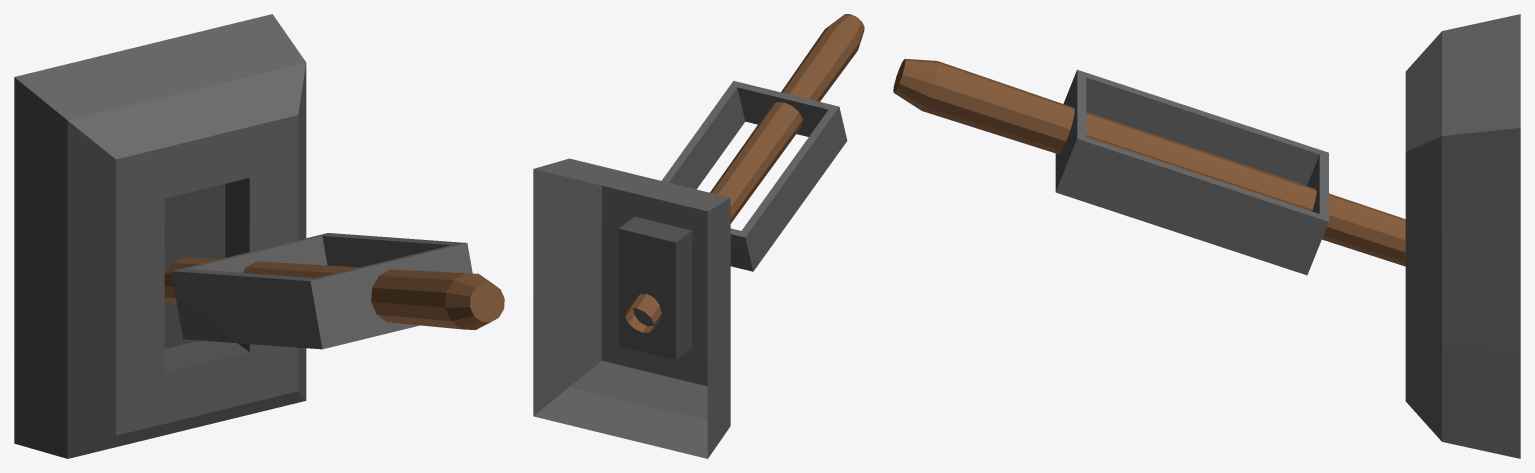
The model's file is Mini_Control_Button_4.fbx.
3 renders of one model, left to right at view 1: azimuth 30°, elevation 25°; view 2: azimuth 150°, elevation 25°; view 3: azimuth 270°, elevation 25°, orthographic. The views are drawn at different scales.
Visible parts, largest first — view 1: Mini_Control_Button_4, Mini_Control_Button_4.001; view 2: Mini_Control_Button_4, Mini_Control_Button_4.001; view 3: Mini_Control_Button_4, Mini_Control_Button_4.001.
Boxes of the visible parts, x1=… form: Mini_Control_Button_4: x1=14, y1=14, x2=306, y2=458; Mini_Control_Button_4.001: x1=164, y1=233, x2=504, y2=349; Mini_Control_Button_4: x1=533, y1=158, x2=730, y2=458; Mini_Control_Button_4.001: x1=625, y1=14, x2=864, y2=332; Mini_Control_Button_4: x1=1405, y1=14, x2=1520, y2=458; Mini_Control_Button_4.001: x1=893, y1=59, x2=1405, y2=275.
Bounding box in the file's own units: 12.45 × 17.41 × 28.99.
1 material, 1 textured.
